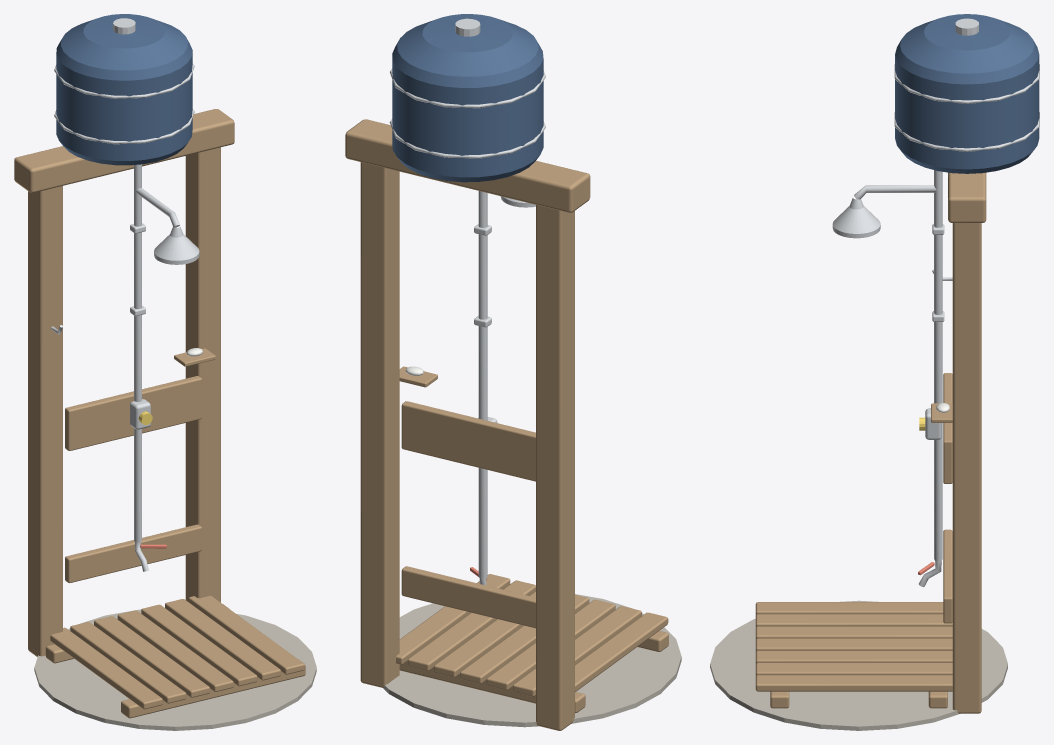
Rendered from beach-surf-and-paddle-kit-outdoor-beach-shower-82d93879__39430.glb.
3 renders of one model, left to right at view 1: azimuth 30°, elevation 25°; view 2: azimuth 150°, elevation 25°; view 3: azimuth 270°, elevation 25°, orthographic. The views are drawn at different scales.
Parts seen in each view (by area): view 1: outdoor-beach-shower-timber, outdoor-beach-shower-navy, outdoor-beach-shower-drift, outdoor-beach-shower-steel; view 2: outdoor-beach-shower-timber, outdoor-beach-shower-navy, outdoor-beach-shower-drift, outdoor-beach-shower-steel; view 3: outdoor-beach-shower-timber, outdoor-beach-shower-navy, outdoor-beach-shower-drift, outdoor-beach-shower-steel.
Boxes of the visible parts, x1,y1,x2,y2 form: outdoor-beach-shower-timber: [14, 109, 305, 718]; outdoor-beach-shower-navy: [56, 14, 192, 165]; outdoor-beach-shower-drift: [34, 609, 316, 730]; outdoor-beach-shower-steel: [51, 18, 199, 571]; outdoor-beach-shower-timber: [345, 119, 668, 730]; outdoor-beach-shower-navy: [392, 14, 543, 182]; outdoor-beach-shower-drift: [383, 594, 681, 727]; outdoor-beach-shower-steel: [389, 18, 545, 585]; outdoor-beach-shower-timber: [755, 172, 986, 713]; outdoor-beach-shower-navy: [895, 14, 1039, 173]; outdoor-beach-shower-drift: [710, 600, 1007, 730]; outdoor-beach-shower-steel: [832, 18, 1039, 587].
Bounding box in the file's own units: 1.24 × 2.96 × 1.37.
